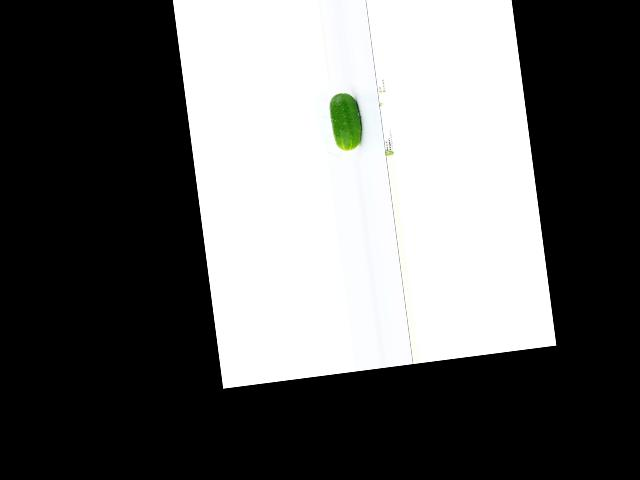cucumber: (328, 90, 364, 151)
